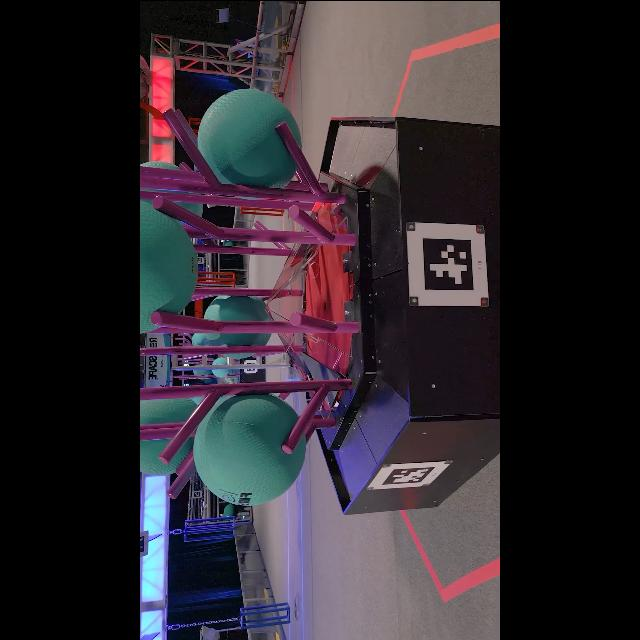ALGAE: (192, 391, 308, 505), (196, 88, 302, 196), (140, 199, 200, 333), (202, 294, 272, 358), (211, 356, 229, 376)
